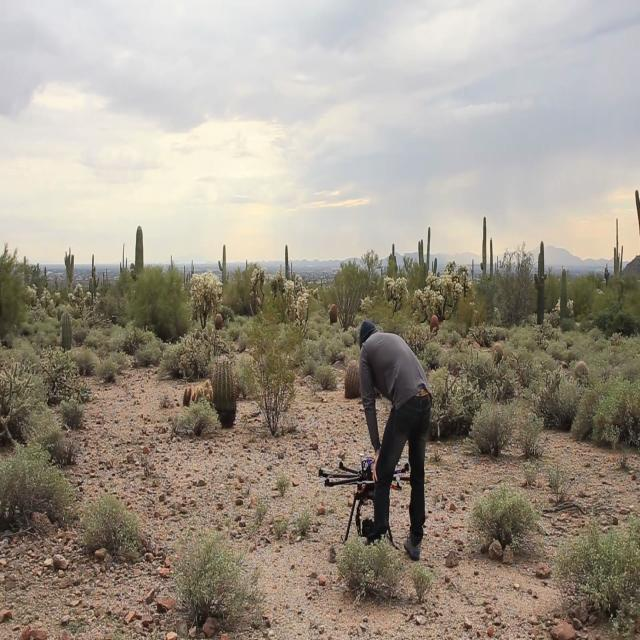drone: (311, 438, 416, 541)
